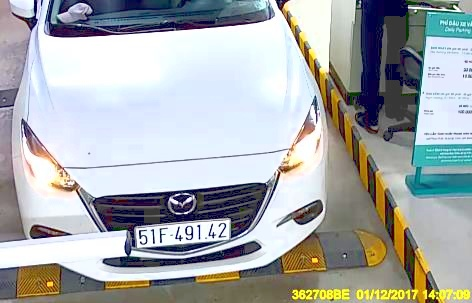plate: (131, 220, 235, 250)
